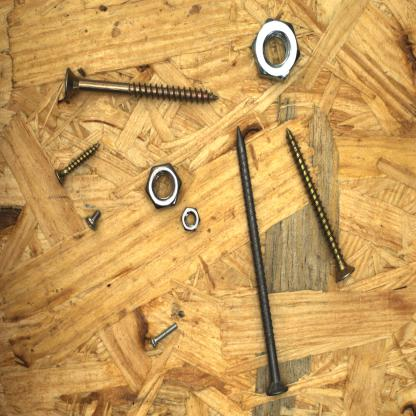screw: (235, 124, 289, 398), (284, 126, 357, 285), (62, 65, 220, 105), (52, 138, 103, 187), (147, 321, 180, 350), (83, 207, 103, 232)
